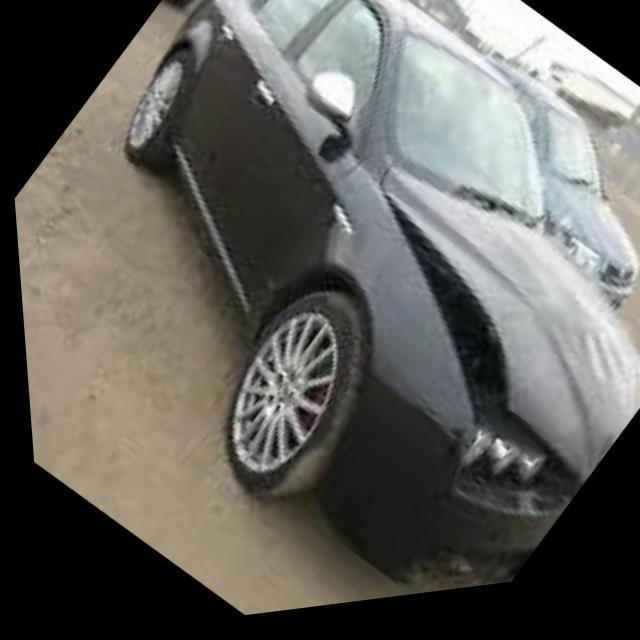dislocated part: (381, 206, 590, 499), (385, 513, 554, 603)
